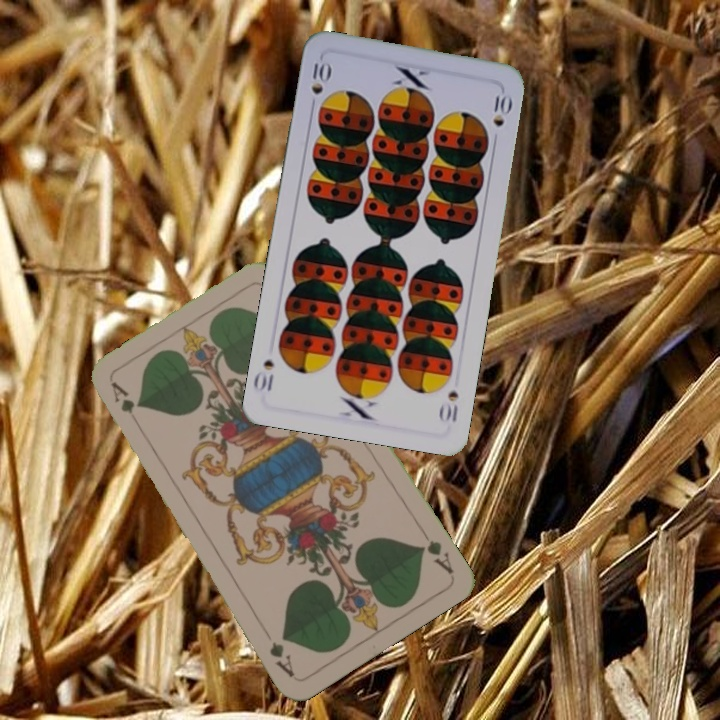GA: (414, 536, 457, 577), (107, 378, 136, 417)
S10: (306, 55, 333, 113), (435, 386, 461, 425)
